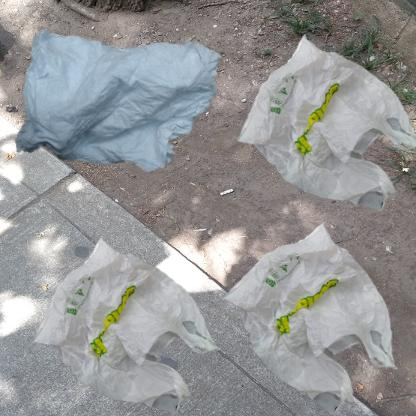bolsa: (213, 10, 416, 256), (10, 213, 243, 416), (213, 213, 411, 416)
papel: (10, 10, 239, 198)
